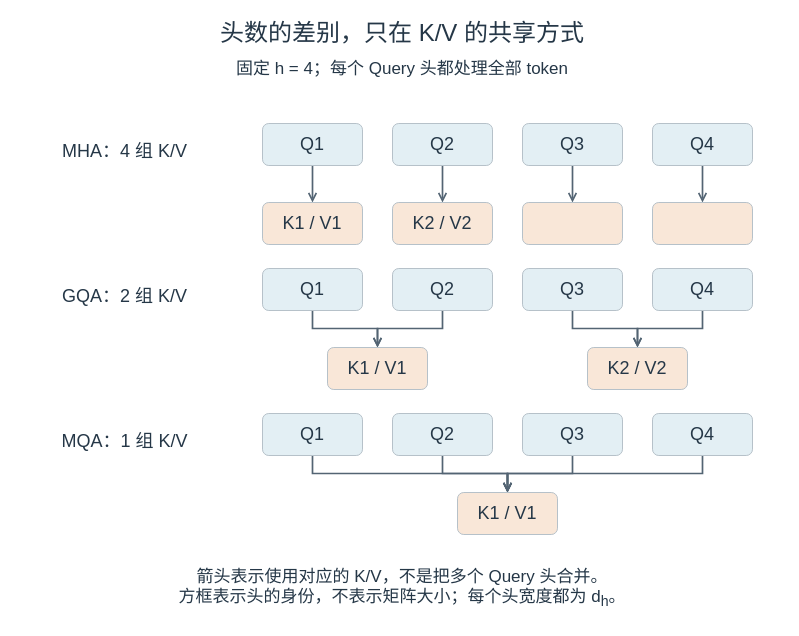
Image size: 799x636. Some labels were removed from this diagram. The shapes that lost their labels are listed below. From the top down, each one's box as (x1, y1, x2, y2) in pixels, then its label:
(522, 202, 622, 244): K3 / V3
(652, 202, 752, 244): K4 / V4
